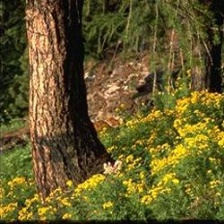neutral: (2, 2, 224, 218)
